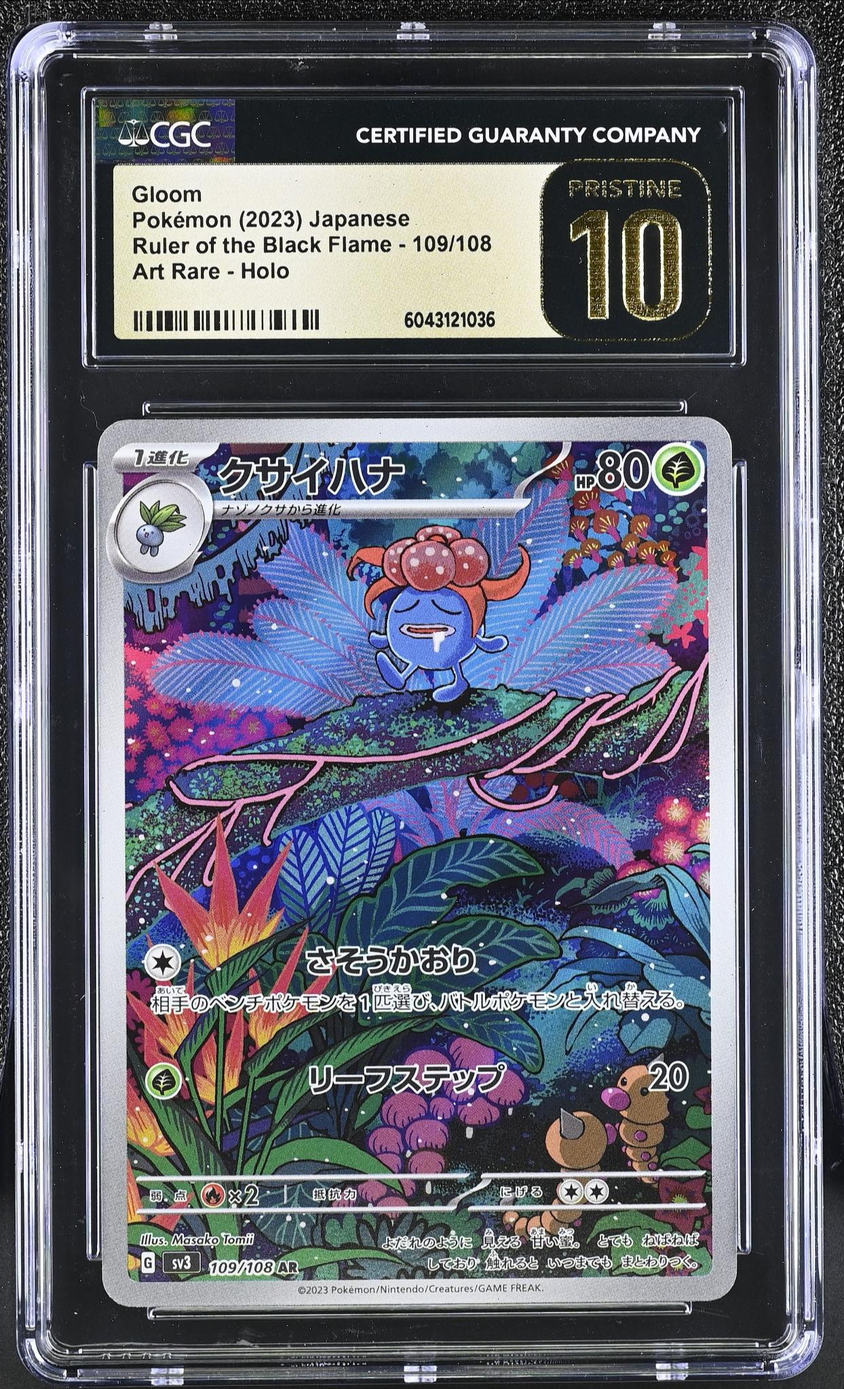card-2UtV: (97, 416, 737, 1308)
